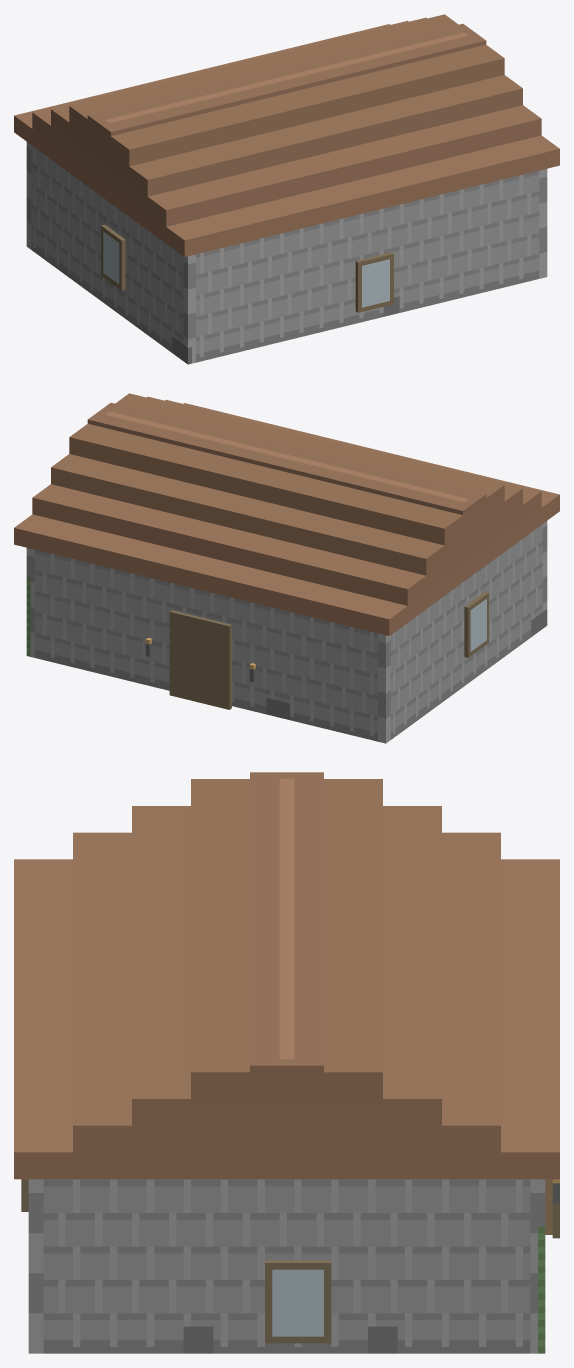
The model's file is gran_herreria_04.glb.
3 views of the same model, one above another, from view 1: azimuth 30°, elevation 25°; view 2: azimuth 150°, elevation 25°; view 3: azimuth 270°, elevation 25° (orthographic). The views are drawn at different scales.
Parts seen in each view (by area): view 1: gran_herreria_04; view 2: gran_herreria_04; view 3: gran_herreria_04.
Boxes of the visible parts, box(x1,y1,x2,y2) form: gran_herreria_04: box(14, 14, 559, 364); gran_herreria_04: box(14, 393, 559, 743); gran_herreria_04: box(14, 772, 559, 1353).
Bounding box in the file's own units: 9.4 × 4.4 × 7.4.
